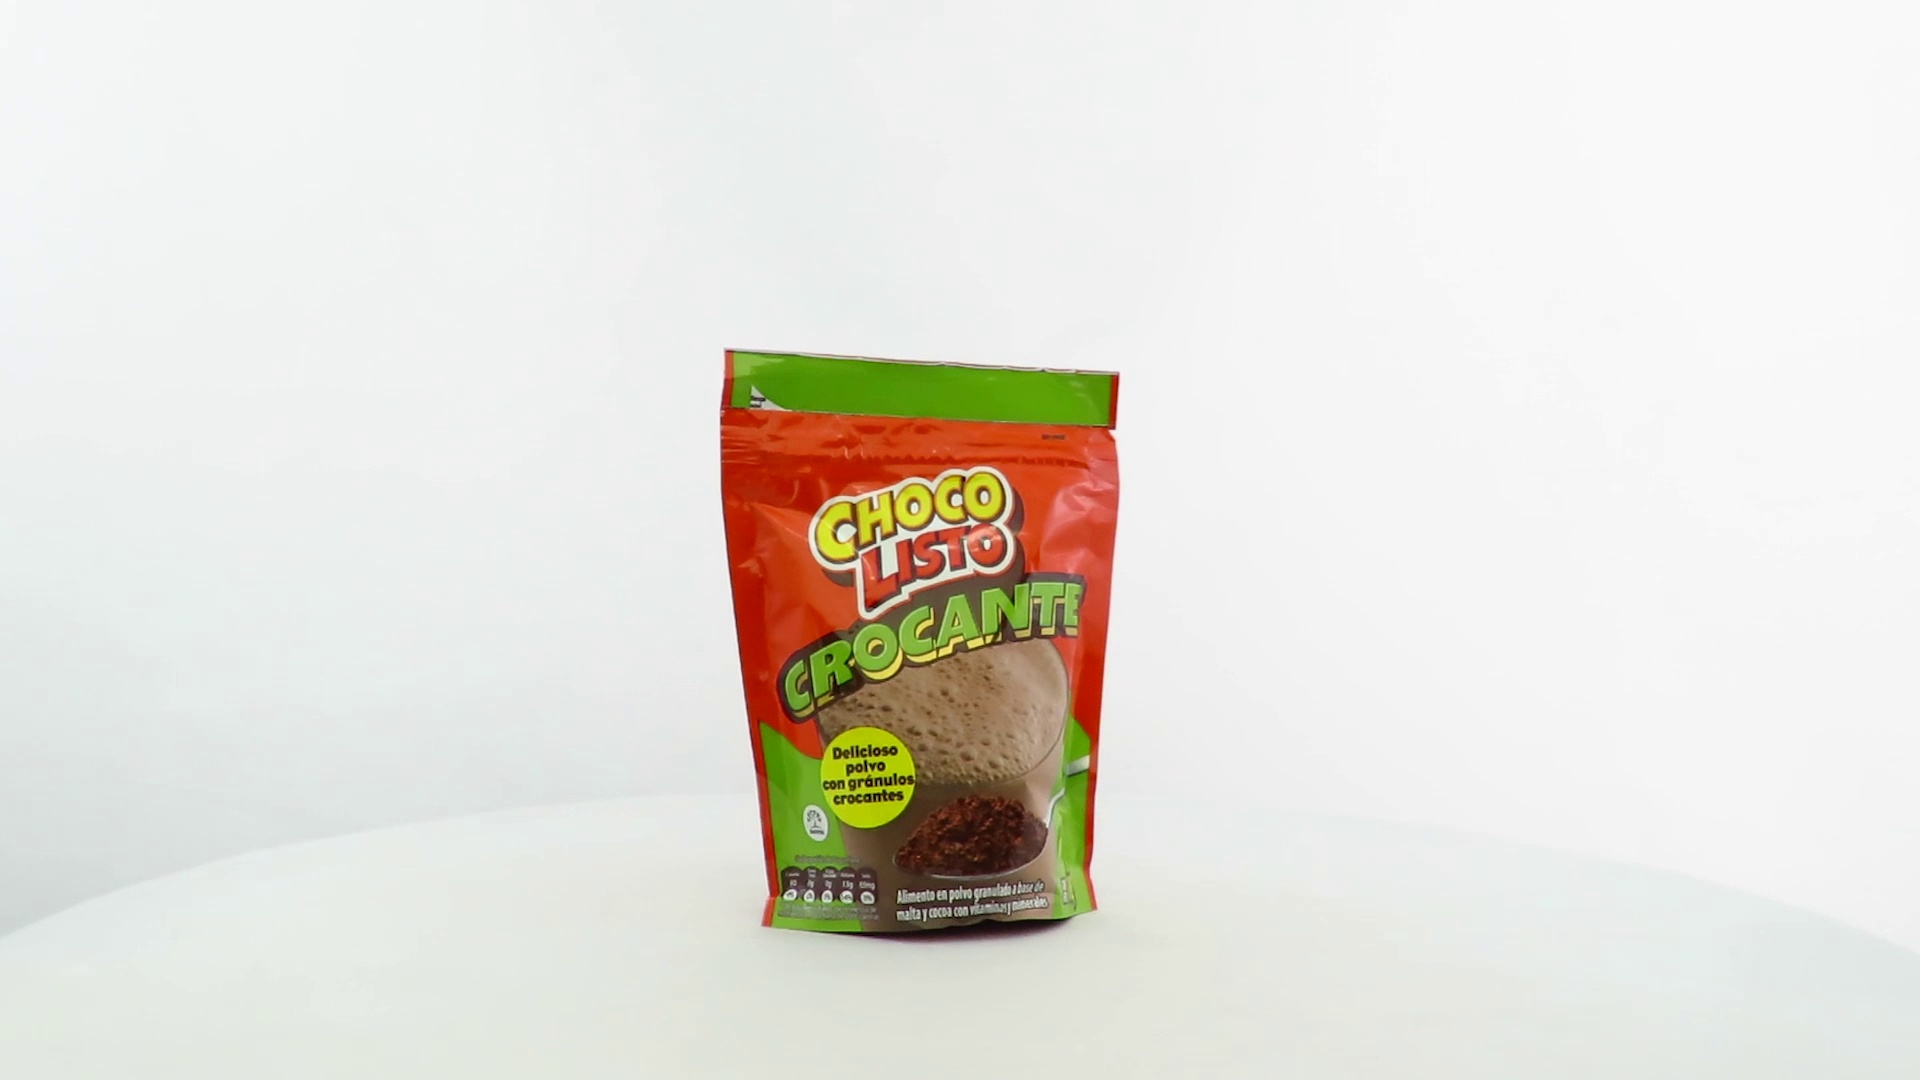COL0170102DYP10000: (713, 345, 1126, 949)
